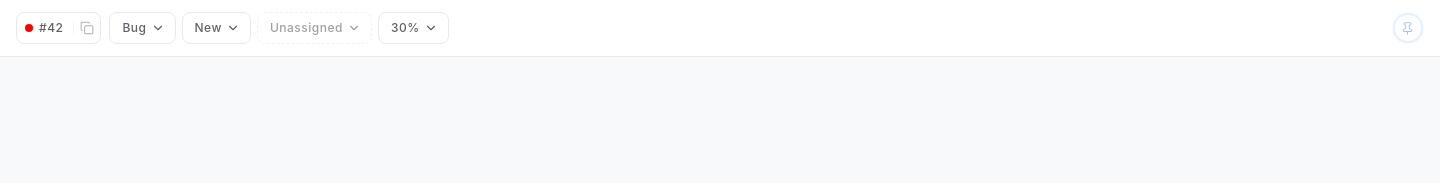
Test case: TicketCardHeader › assignee dropdown is searchable
The width and height of the screenshot is (1440, 183).
Click the button "Unassigned" at (314, 28), box [257, 12, 372, 44]
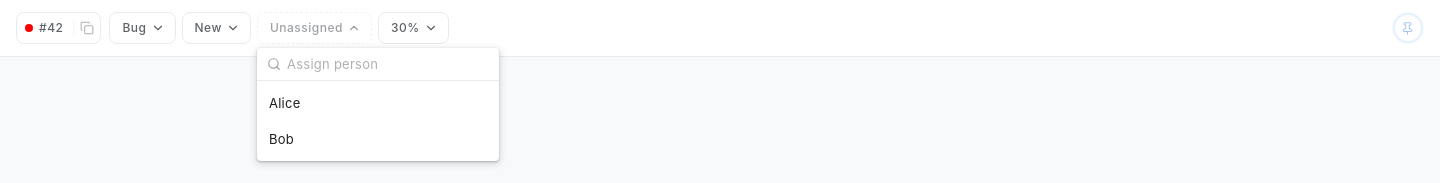
Expected: the field is shown, [287, 54, 489, 74]
